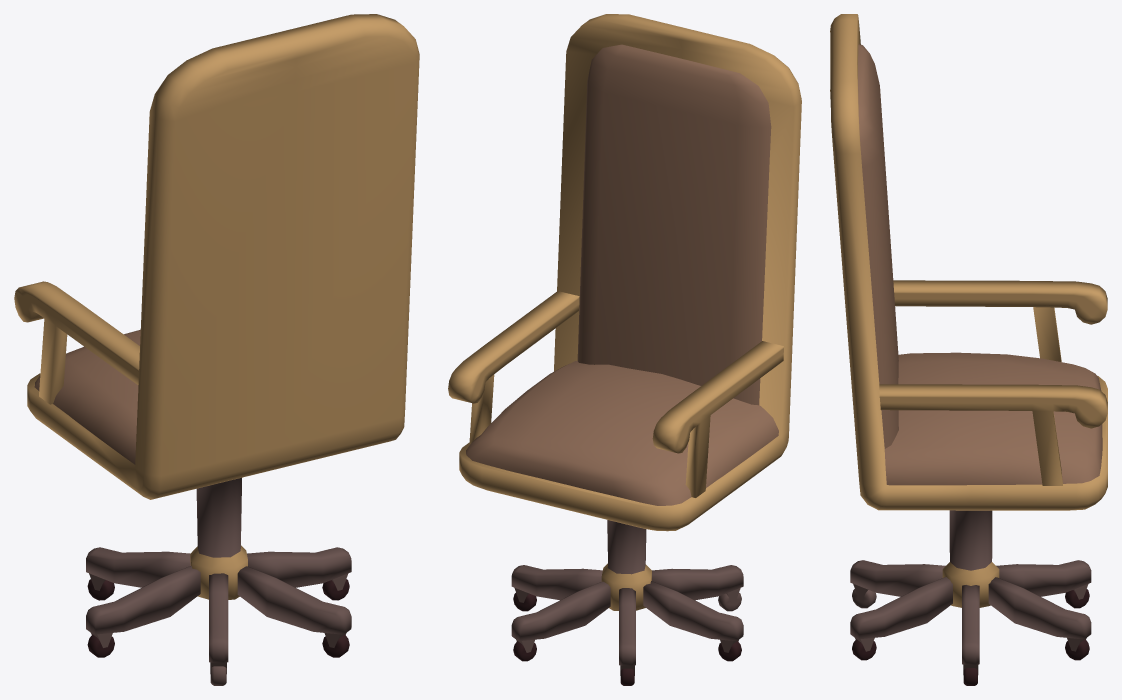
File: Chair.fbx
The picture shows the model from 3 angles, left to right: view 1: azimuth 30°, elevation 25°; view 2: azimuth 150°, elevation 25°; view 3: azimuth 270°, elevation 25°; orthographic projection. The views are drawn at different scales.
Parts seen in each view (by area): view 1: Chair_Base, Chair_Handle_01, Chair_Seat, Chair_Leg_02, Chair_Leg_06, Chair_Leg_05, Chair_Leg_01, Chair_Leg_03; view 2: Chair_Back, Chair_Base, Chair_Seat, Chair_Handle_01, Chair_Handle_02, Chair_Leg_02, Chair_Leg_04, Chair_Leg_03, Chair_Leg_01, Chair_Leg_05; view 3: Chair_Base, Chair_Seat, Chair_Back, Chair_Handle_02, Chair_Handle_01, Chair_Leg_04, Chair_Leg_06, Chair_Leg_03, Chair_Leg_05, Chair_Leg_01.
Part boxes in pixels (x1,y1,x2,y2): Chair_Base: (27,14,419,599); Chair_Handle_01: (14,281,139,404); Chair_Seat: (34,329,140,464); Chair_Leg_02: (86,565,200,634); Chair_Leg_06: (237,566,351,634); Chair_Leg_05: (86,547,190,587); Chair_Leg_01: (247,547,351,587); Chair_Leg_03: (209,573,228,662); Chair_Back: (577,44,771,405); Chair_Base: (459,14,801,610); Chair_Seat: (466,361,778,505); Chair_Handle_01: (652,341,783,497); Chair_Handle_02: (448,291,579,443); Chair_Leg_02: (643,581,743,640); Chair_Leg_04: (511,581,610,640); Chair_Leg_03: (652,565,743,600); Chair_Leg_01: (511,565,602,600); Chair_Leg_05: (619,588,635,665); Chair_Base: (830,14,1107,607); Chair_Seat: (884,352,1102,485); Chair_Back: (858,44,898,448); Chair_Handle_02: (879,384,1107,485); Chair_Handle_01: (893,280,1107,361); Chair_Leg_04: (988,577,1091,639); Chair_Leg_06: (850,577,952,639); Chair_Leg_03: (850,560,945,596); Chair_Leg_05: (996,560,1091,596); Chair_Leg_01: (962,585,979,664).
Size of the model in its own units: 1076 by 2527 by 1092.
